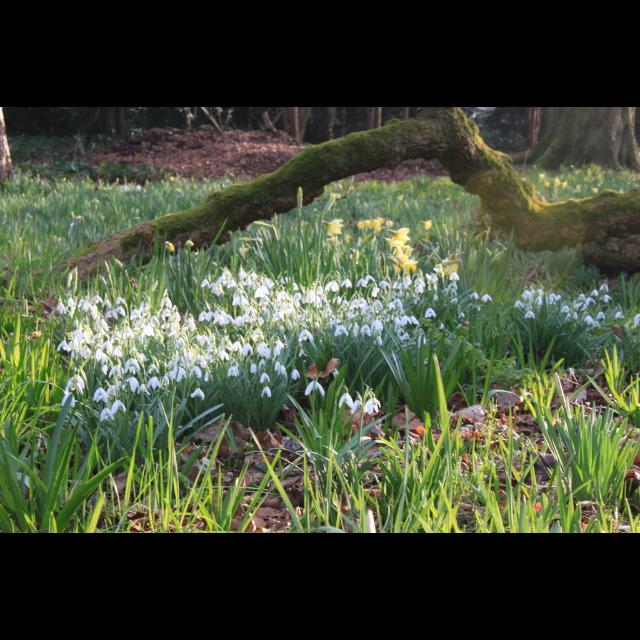Flower: (33, 164, 639, 420)
